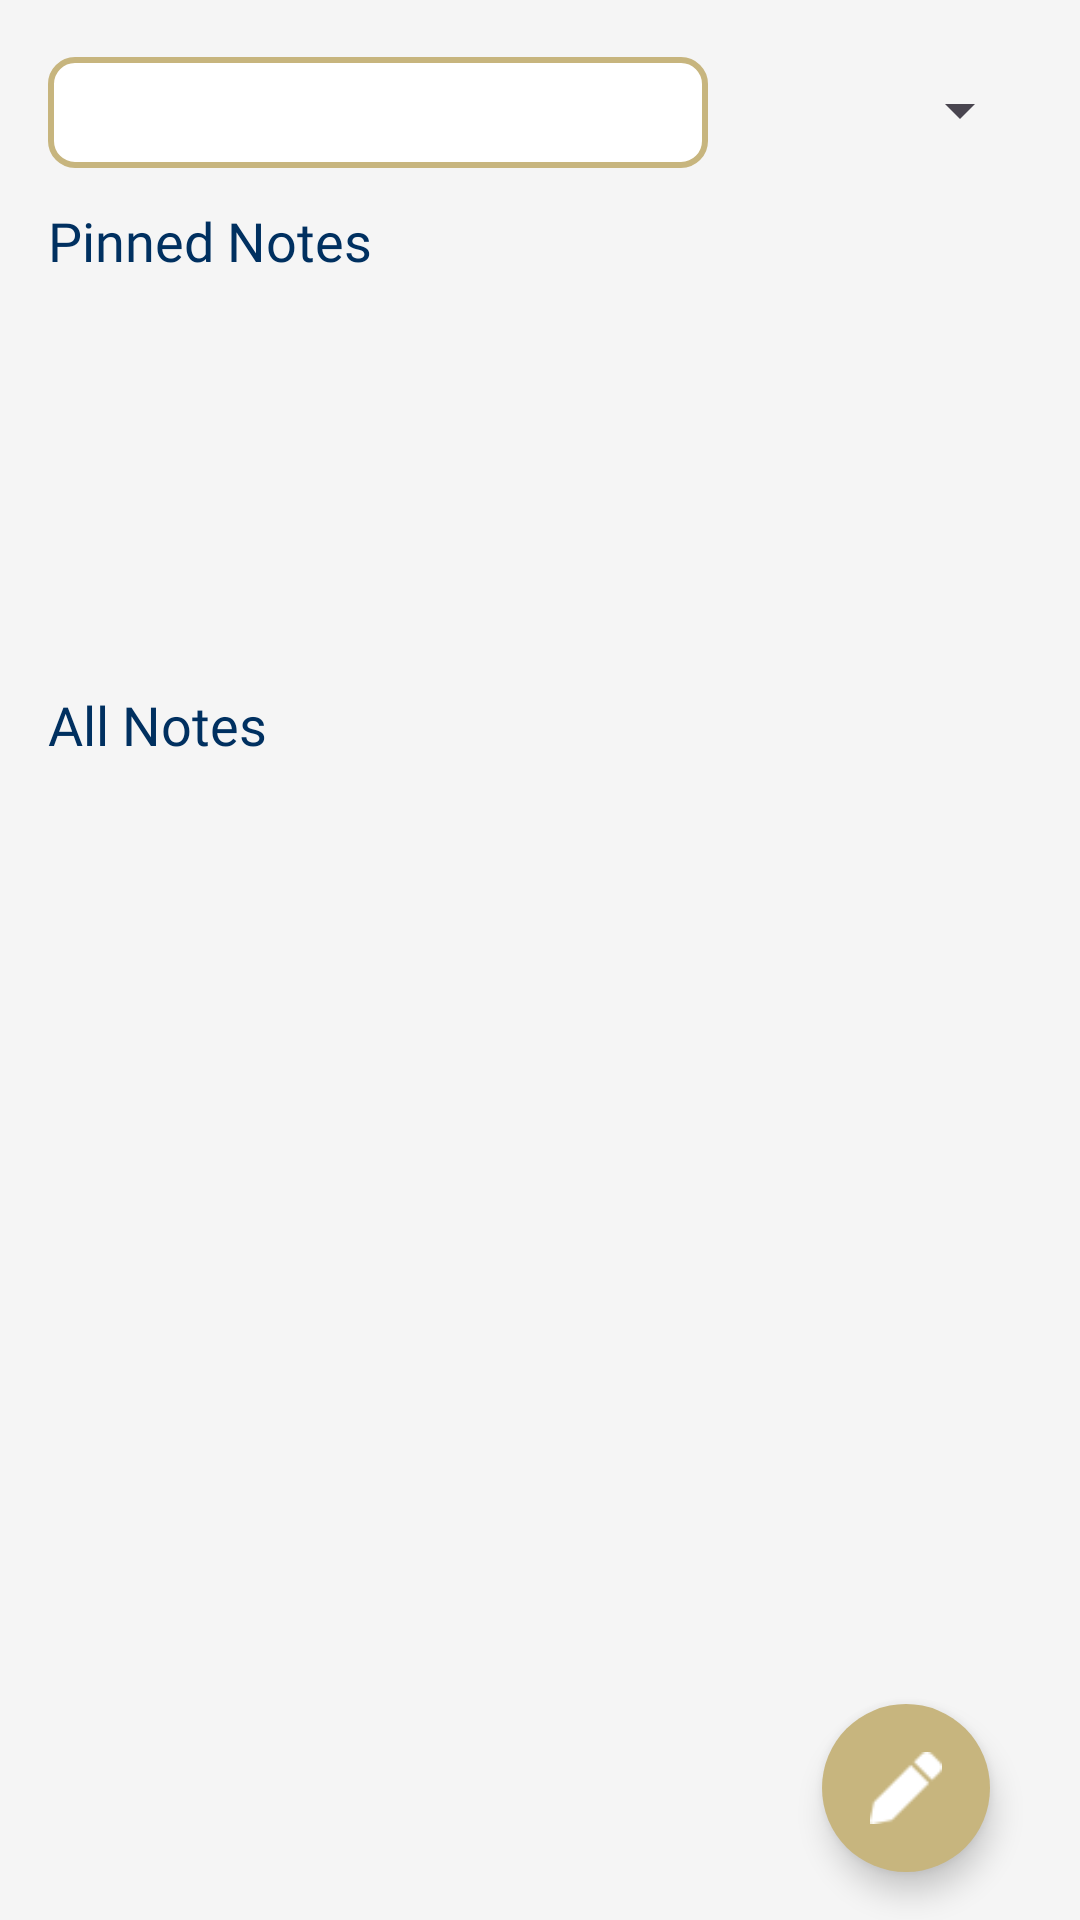

Named icons in this screenshot (1080*1920) and their centers, point (x, y):
Add new note: point (906, 1788)
